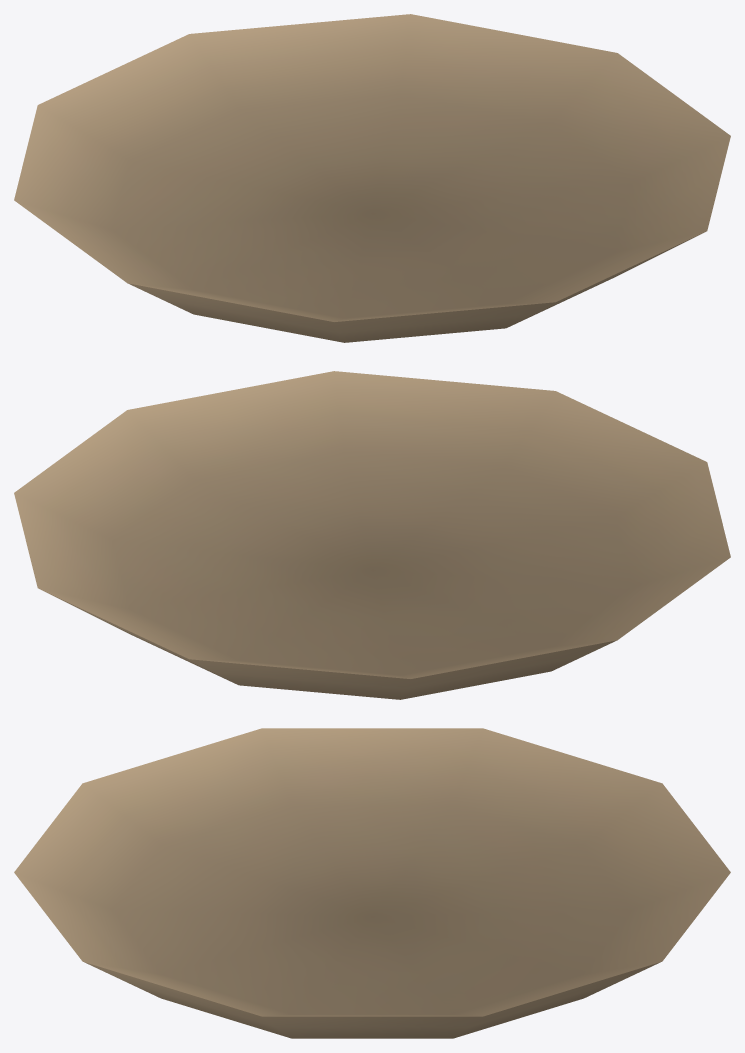
The model's file is TSP_Plate_01A.fbx.
The picture shows the model from 3 angles, top to bottom: view 1: azimuth 30°, elevation 25°; view 2: azimuth 150°, elevation 25°; view 3: azimuth 270°, elevation 25°; orthographic projection. The views are drawn at different scales.
Visible parts, largest first — view 1: TSP_Plate_01A; view 2: TSP_Plate_01A; view 3: TSP_Plate_01A.
Part boxes in pixels (x1,y1,x2,y2): TSP_Plate_01A: (14, 14, 730, 342); TSP_Plate_01A: (14, 371, 730, 699); TSP_Plate_01A: (14, 728, 730, 1038).
Size of the model in its own units: 0.4086 by 0.0404 by 0.4297.
